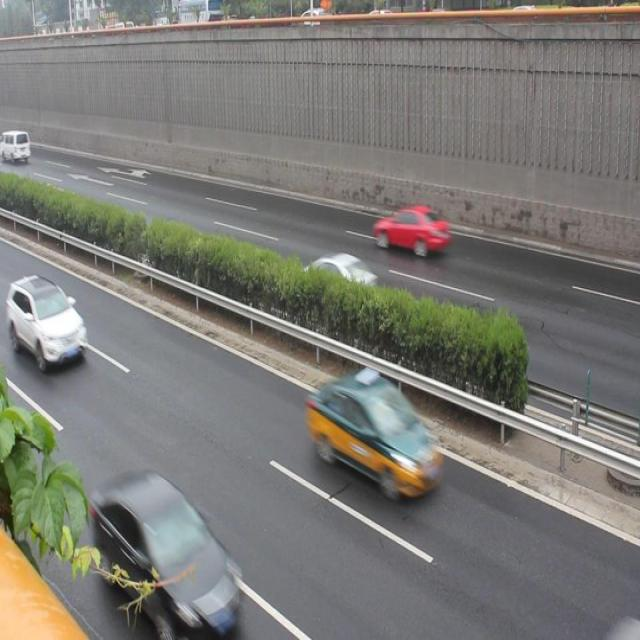car: (83, 471, 246, 640), (304, 364, 446, 506), (1, 266, 89, 374), (372, 198, 447, 267), (296, 250, 376, 307)
